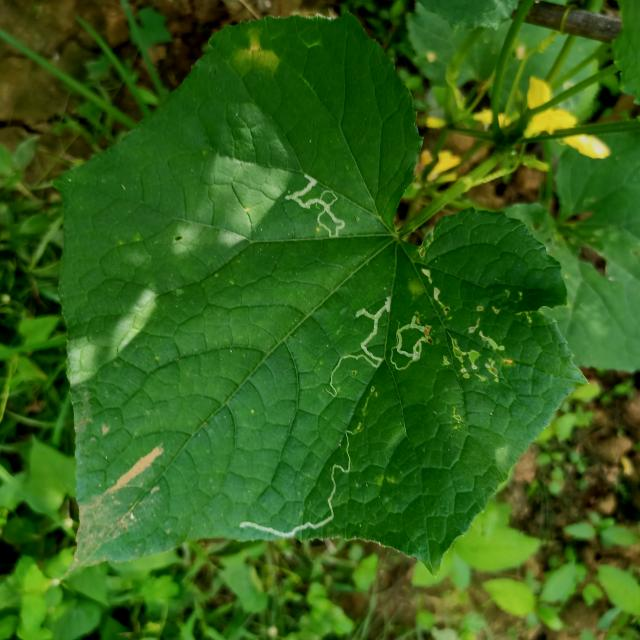disease_cucumber: (231, 28, 278, 74)
